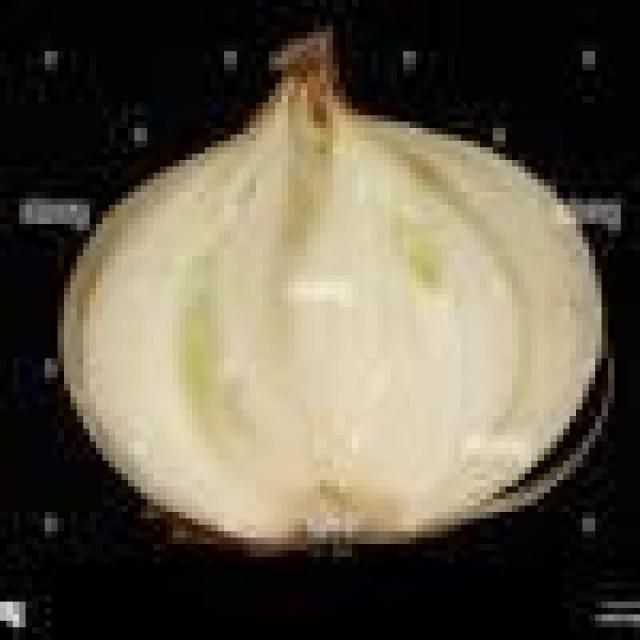Onion: (58, 26, 608, 556)
